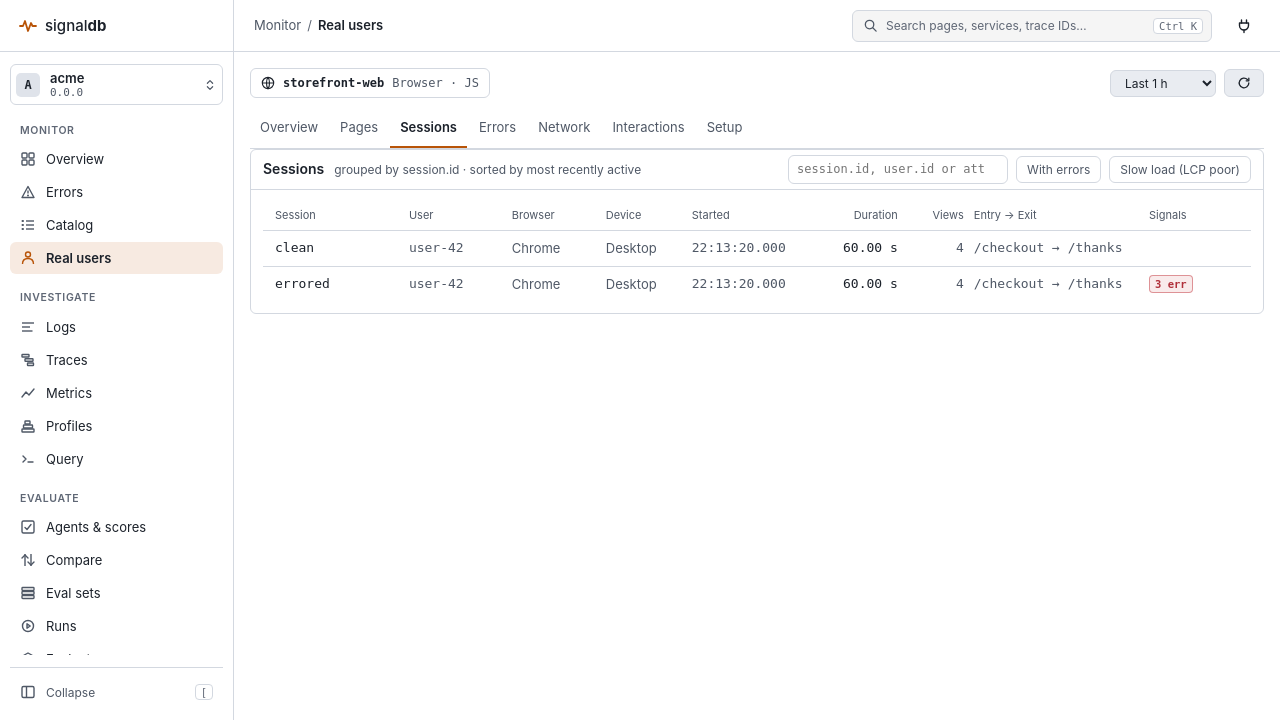
Test: Sessions tab › filters to sessions with errors via the quick filter
Expected: the button "storefront-web Browser · JS" is shown, [250, 68, 490, 98]
Expected: the button "clean" is shown, [263, 231, 1251, 267]
Step 1. Click the button "With errors" → (1059, 169), box [1016, 156, 1101, 183]
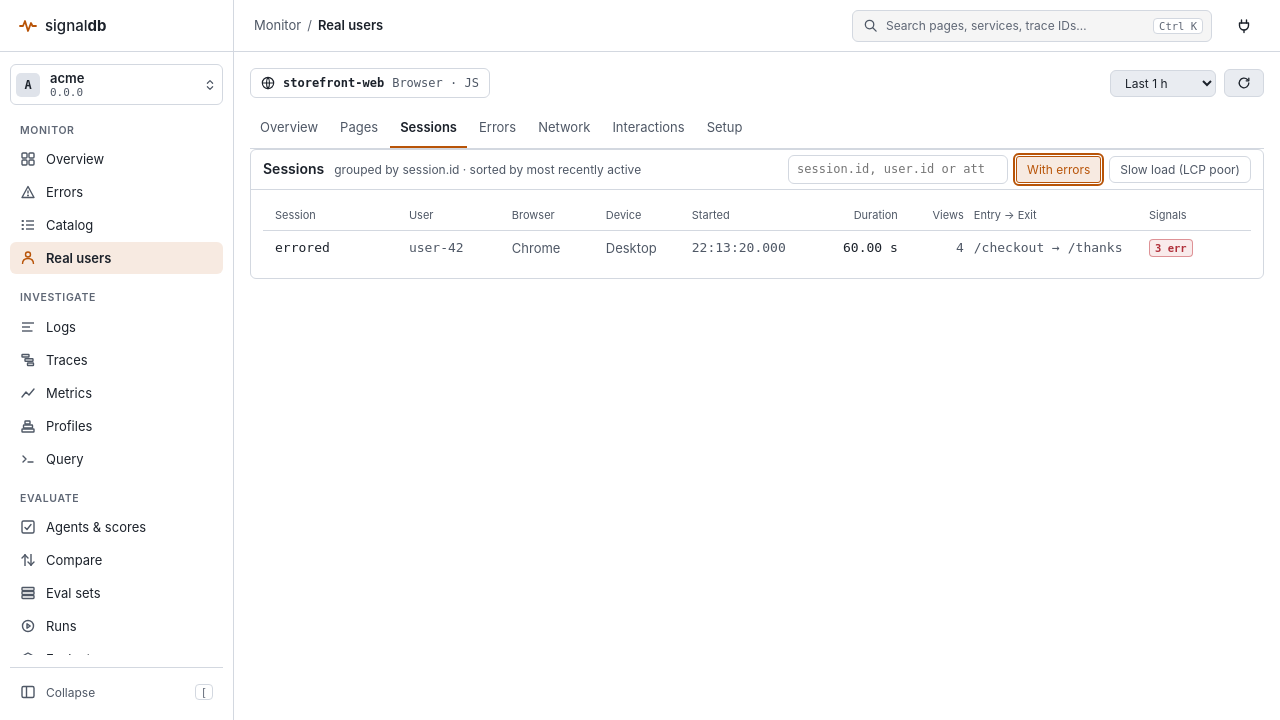
Expected: the button "errored" is shown, [263, 231, 1251, 266]
Expected: the button "clean" is gone
